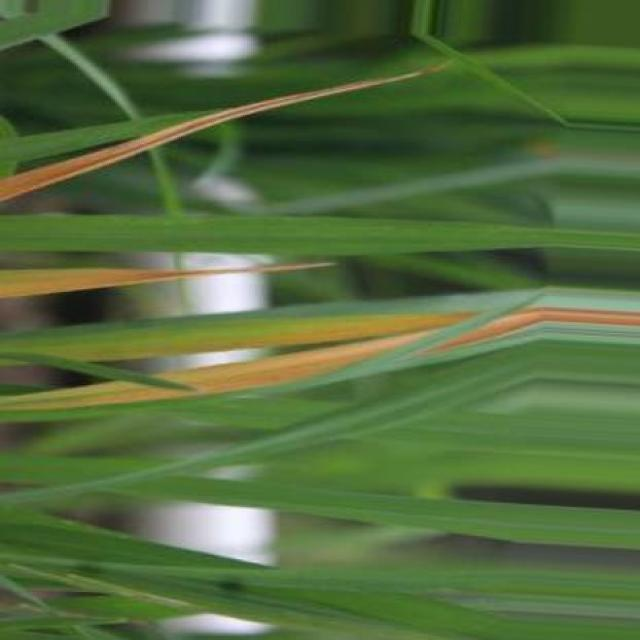Rice Tungro: (0, 66, 447, 201), (0, 332, 432, 411), (0, 312, 471, 361), (0, 263, 332, 297), (420, 308, 640, 353)
